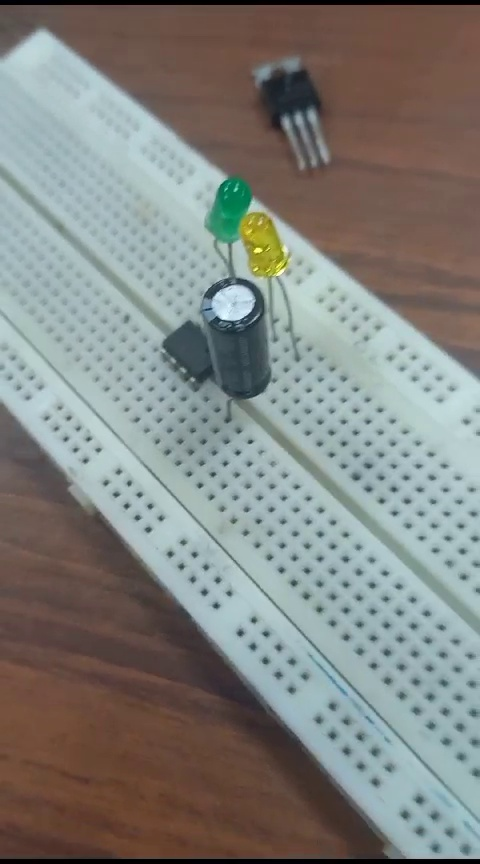IC: (143, 323, 218, 392)
LED: (198, 165, 247, 260), (234, 215, 288, 293)
capacitor: (196, 279, 280, 408)
voltage regulator: (238, 48, 335, 171)
